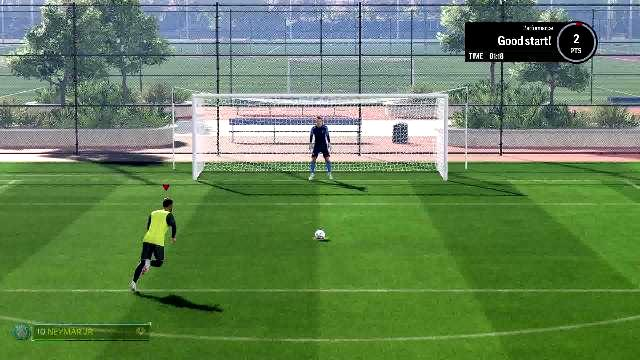bottom-left: (202, 142, 278, 180)
bottom-right: (360, 140, 442, 180)
center-down: (275, 141, 361, 181)
center-up: (277, 98, 361, 140)
football: (313, 230, 327, 240)
goalkeeper: (306, 115, 338, 181)
player: (132, 197, 182, 293)
top-left: (201, 98, 279, 140)
top-right: (360, 99, 440, 140)
